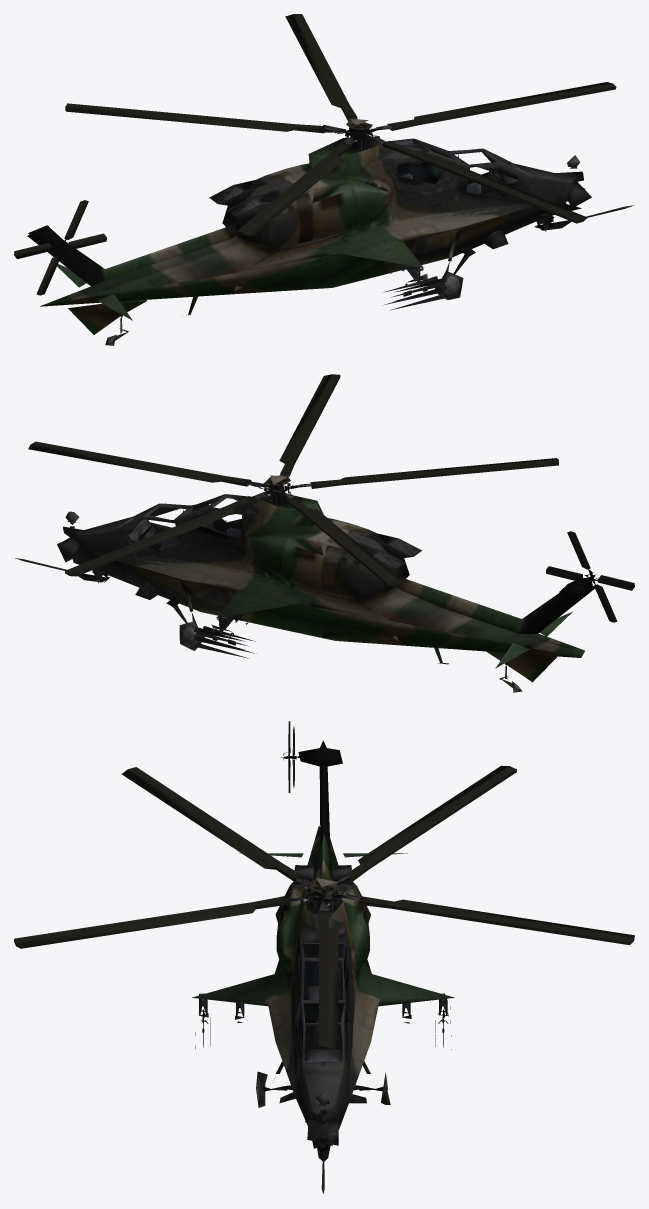
3 views of the same model, one above another, from view 1: azimuth 30°, elevation 25°; view 2: azimuth 150°, elevation 25°; view 3: azimuth 270°, elevation 25° (orthographic). The views are drawn at different scales.
Parts seen in each view (by area): view 1: g_z10_hull, g_z10_rotor, g_z10_rotor2; view 2: g_z10_hull, g_z10_rotor, g_z10_rotor2; view 3: g_z10_hull, g_z10_rotor.
Boxes of the visible parts, left/top/right/bottom form: g_z10_hull: left=27, top=118, right=633, bottom=345; g_z10_rotor: left=65, top=14, right=616, bottom=235; g_z10_rotor2: left=14, top=200, right=106, bottom=295; g_z10_hull: left=15, top=475, right=597, bottom=692; g_z10_rotor: left=28, top=374, right=558, bottom=586; g_z10_rotor2: left=546, top=531, right=634, bottom=622; g_z10_hull: left=192, top=740, right=454, bottom=1193; g_z10_rotor: left=14, top=765, right=634, bottom=1049.
Size of the model in its own units: 14.66 by 3.94 by 11.34.
3 materials, 3 textured.
